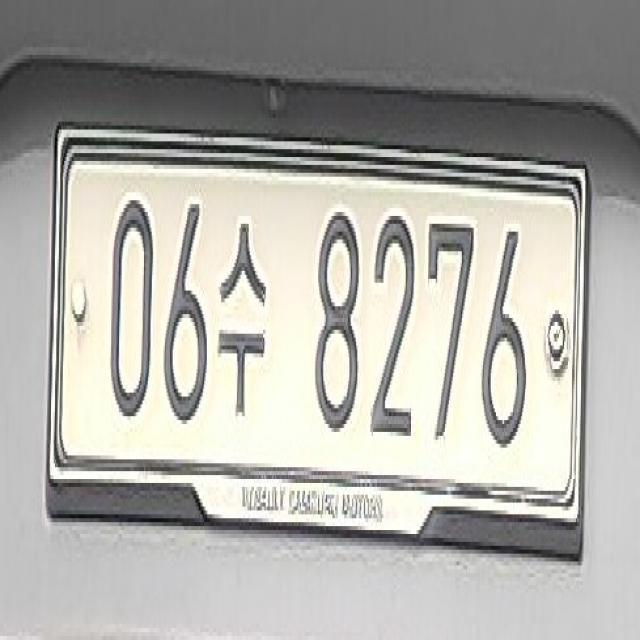0: (99, 172, 154, 446)
2: (363, 191, 418, 455)
6: (479, 217, 534, 476), (162, 181, 212, 449)
7: (424, 207, 477, 471)
8: (301, 192, 360, 450)
license_plate: (36, 100, 598, 591)
su: (216, 181, 272, 444)
